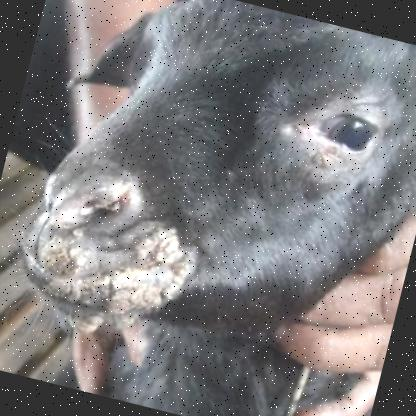ppr: (31, 176, 189, 335)
